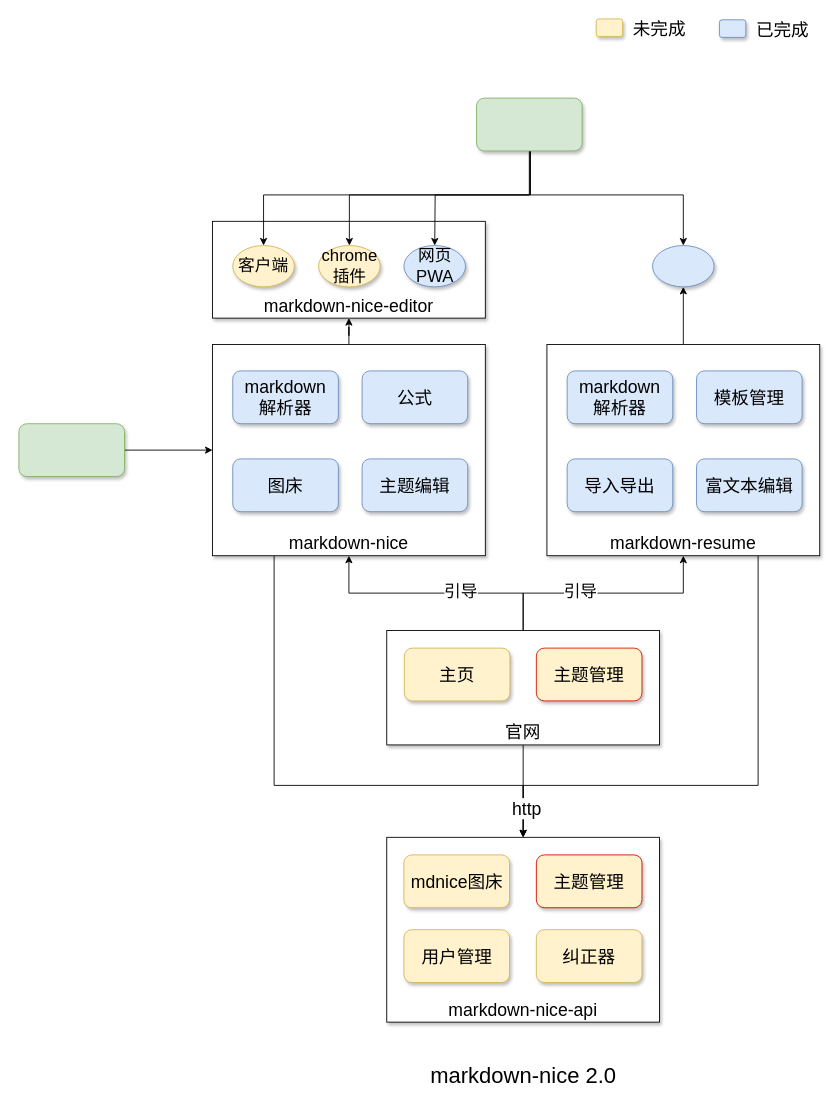
Some shapes in this 840 by 1105 pixel diagram are drawn without their labels. Here are the shapes that lost their labels. From the top down, the centre of each, then its label:
point 529,125: 用户
point 683,267: 网页
point 72,451: 开发者
